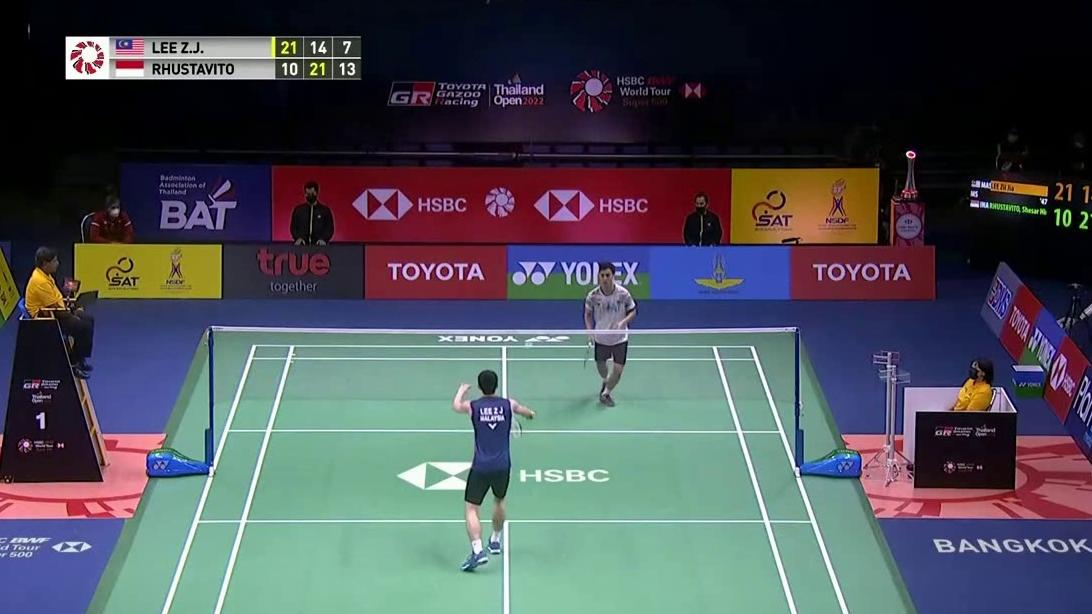racket: (511, 410, 536, 442), (582, 341, 593, 371)
shuttle: (523, 338, 533, 351)
